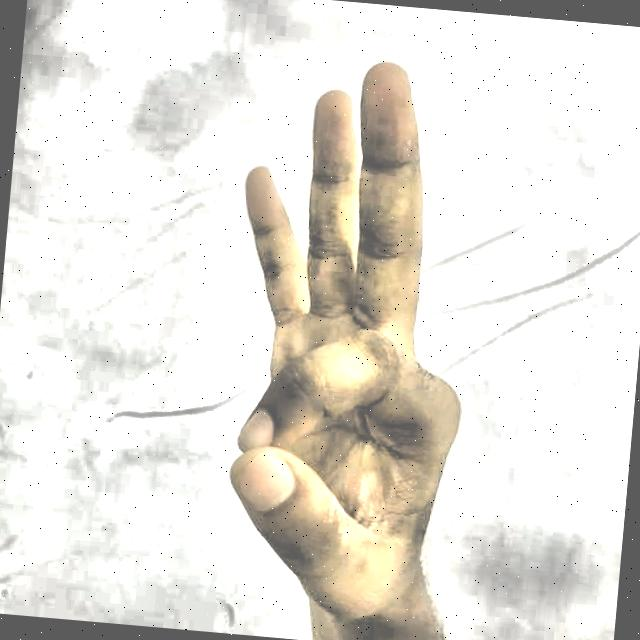Ca: (163, 35, 521, 640)
